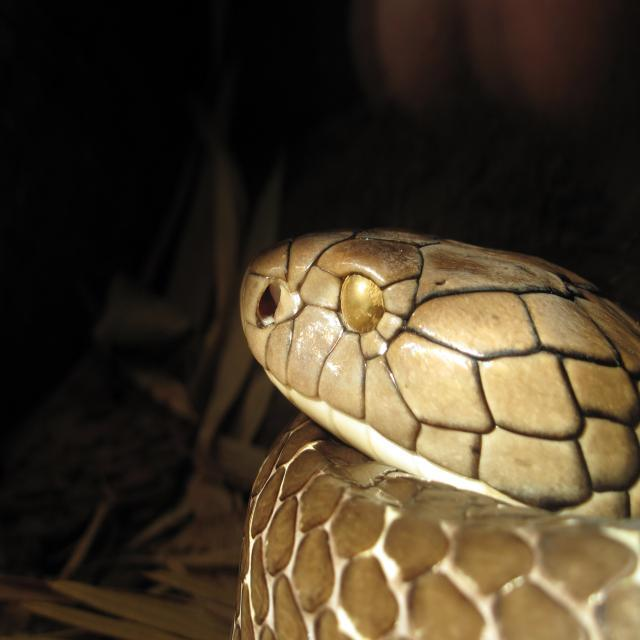Snake: (231, 225, 639, 638)
